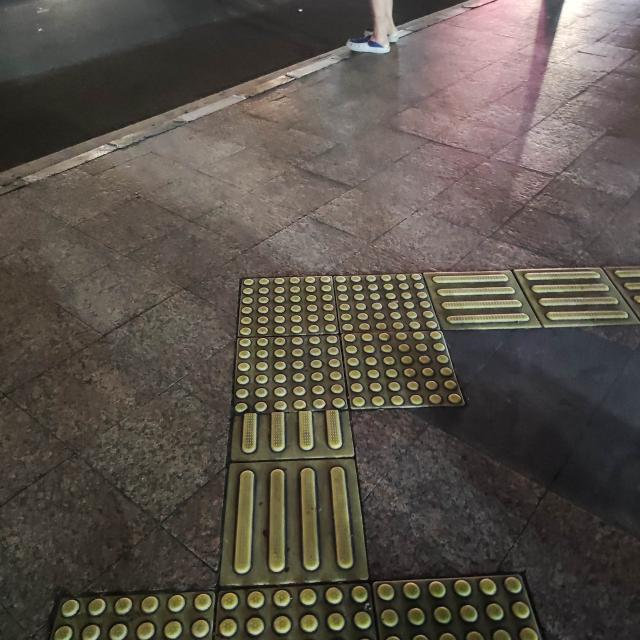kanan: (173, 236, 629, 463)
